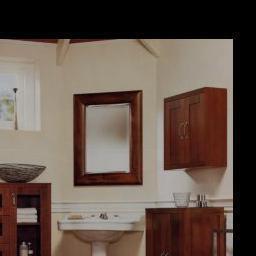Armario: (145, 209, 212, 256)
Lavamanos: (62, 214, 141, 256)
